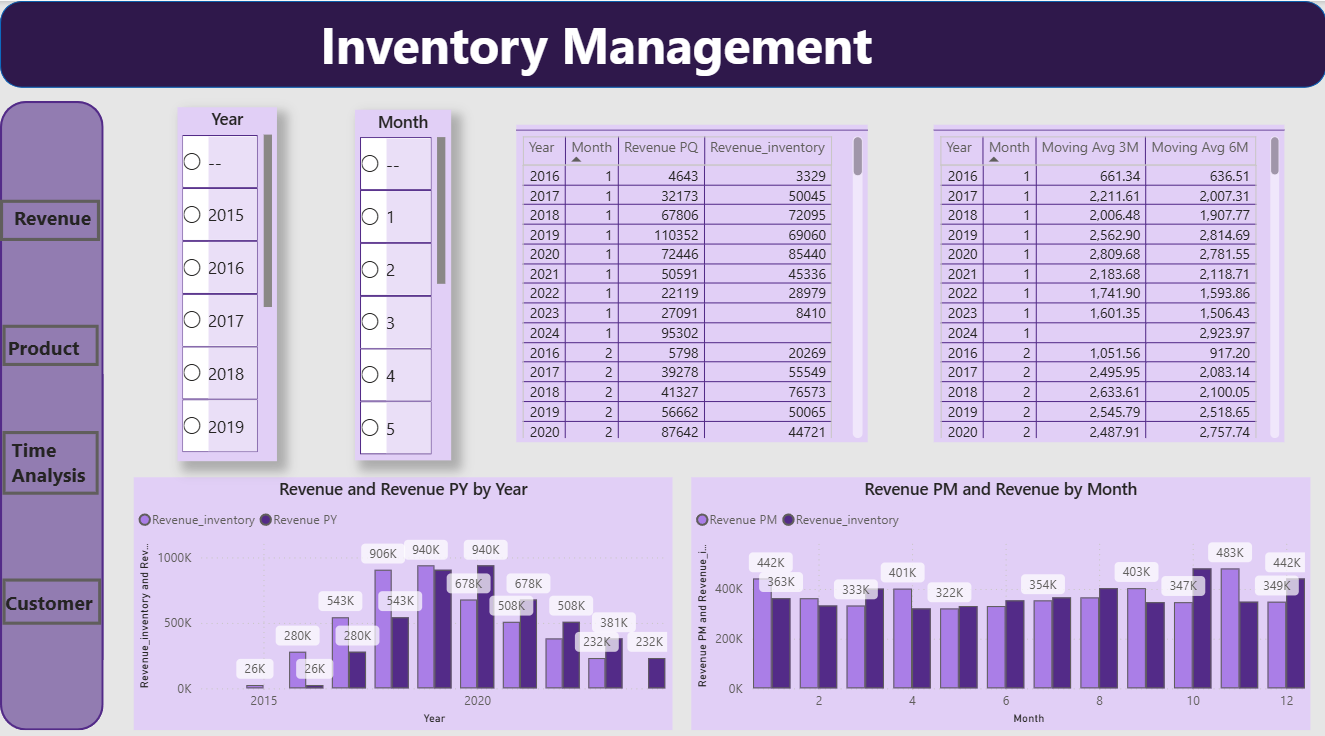

What the dashboard file says about the page in this screenshot:
{"tool":"powerbi","page":{"name":"Page 3","canvas":[1280,720],"ordinal":2},"visuals":[{"type":"actionButton","box":[0,191.8,96.5,39.8],"z":0,"group":"g1"},{"type":"textbox","box":[2.7,316.9,88.1,38.6],"z":0,"group":"g3"},{"type":"actionButton","box":[2.4,415,92.9,61.5],"z":0,"group":"g2"},{"type":"lineClusteredColumnComboChart","title":"Revenue and Revenue PY by Year","fields":{"Category":["dim_date.Year"],"Y":["factinventoryproduct.Revenue_inventory","dim_date.Revenue PY"]},"box":[128.8,460,520,243.8],"z":0},{"type":"actionButton","box":[2.4,557.4,95.3,44.6],"z":0,"group":"g4"},{"type":"textbox","box":[8.4,191.8,88.1,38.6],"z":1000,"group":"g1"},{"type":"actionButton","box":[2.4,312.5,92.9,39.8],"z":1000,"group":"g3"},{"type":"textbox","box":[6,415,90.5,61.5],"z":1000,"group":"g2"},{"type":"lineClusteredColumnComboChart","title":"Revenue PM and Revenue by Month","fields":{"Y":["dim_date.Revenue PM","factinventoryproduct.Revenue_inventory"],"Category":["dim_date.Month"]},"box":[667.5,460,597.5,243.8],"z":1000},{"type":"textbox","box":[0,563.3,103.8,38.6],"z":1000,"group":"g4"},{"type":"tableEx","fields":{"Values":["dim_date.Year","dim_date.Month","dim_date.Moving Avg 3M","dim_date.Moving Avg 6M"]},"box":[901.2,120,338.8,306.2],"z":2000},{"type":"tableEx","fields":{"Values":["dim_date.Year","dim_date.Month","dim_date.Revenue PQ","factinventoryproduct.Revenue_inventory"]},"box":[498.3,119.4,339,306.4],"z":3000},{"type":"listSlicer","fields":{"Values":["dim_date.Year"]},"box":[171.2,102.5,96.2,341.2],"z":4000},{"type":"listSlicer","fields":{"Values":["dim_date.Month"]},"box":[342.5,105,92.5,338.8],"z":5000},{"type":"shape","box":[0,0,1280.3,83.7],"z":6000},{"type":"textbox","box":[303.8,3.8,563.8,73.8],"z":7000},{"type":"shape","box":[0,96.2,100,607.5],"z":8000},{"type":"group","id":"g1","title":"Group 1","box":[0,191.8,96.5,39.8],"z":8001},{"type":"group","id":"g2","title":"Group 4","box":[2.4,415,94.1,61.5],"z":8002},{"type":"group","id":"g3","title":"Group 2","box":[2.4,312.5,92.9,43.4],"z":8003},{"type":"group","id":"g4","title":"Group 3","box":[0,557.4,103.8,44.6],"z":8004}]}

Visuals, with their boxes in screenshot pixels (x1, y1, x2, y2), scaled from the page's 1280x720 canvas onto the 1325x736 screenshot:
actionButton: (left=0, top=196, right=100, bottom=237)
textbox: (left=3, top=324, right=94, bottom=363)
actionButton: (left=2, top=424, right=99, bottom=487)
"Revenue and Revenue PY by Year" lineClusteredColumnComboChart: (left=133, top=470, right=672, bottom=719)
actionButton: (left=2, top=570, right=101, bottom=615)
textbox: (left=9, top=196, right=100, bottom=236)
actionButton: (left=2, top=319, right=99, bottom=360)
textbox: (left=6, top=424, right=100, bottom=487)
"Revenue PM and Revenue by Month" lineClusteredColumnComboChart: (left=691, top=470, right=1309, bottom=719)
textbox: (left=0, top=576, right=107, bottom=615)
tableEx - dim_date.Year x dim_date.Month: (left=933, top=123, right=1284, bottom=436)
tableEx - dim_date.Year x dim_date.Month: (left=516, top=122, right=867, bottom=435)
listSlicer - dim_date.Year: (left=177, top=105, right=277, bottom=454)
listSlicer - dim_date.Month: (left=355, top=107, right=450, bottom=454)
shape: (left=0, top=0, right=1324, bottom=86)
textbox: (left=314, top=4, right=898, bottom=79)
shape: (left=0, top=98, right=104, bottom=719)
"Group 1" group: (left=0, top=196, right=100, bottom=237)
"Group 4" group: (left=2, top=424, right=100, bottom=487)
"Group 2" group: (left=2, top=319, right=99, bottom=364)
"Group 3" group: (left=0, top=570, right=107, bottom=615)
